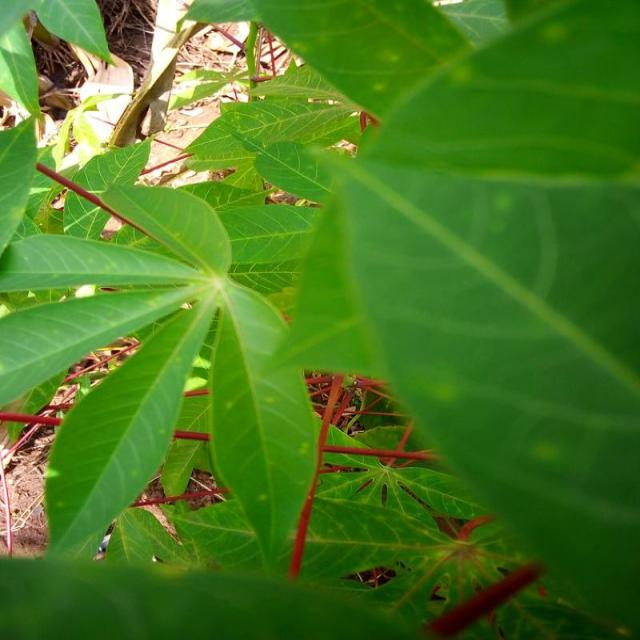cassava leaf: (1, 1, 638, 636), (1, 178, 318, 575), (207, 278, 318, 573)
